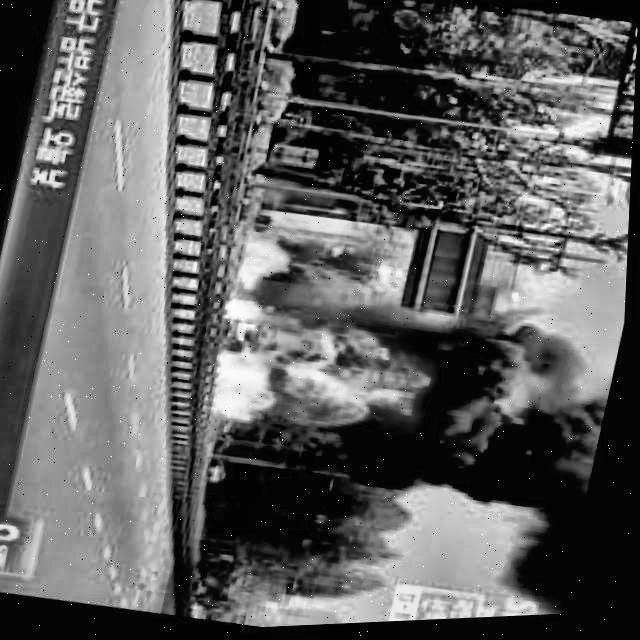Fire: (209, 306, 426, 453), (244, 234, 297, 290), (269, 215, 357, 248)
Smoke: (377, 331, 621, 623)
